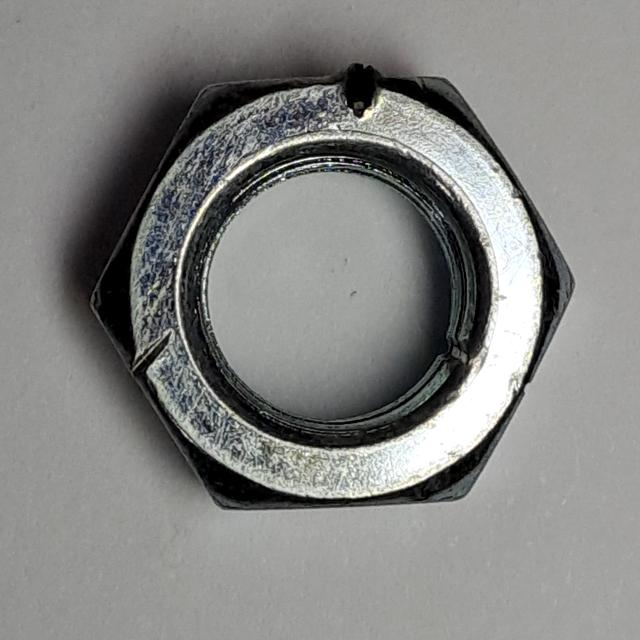Scratches: (75, 51, 588, 530)
